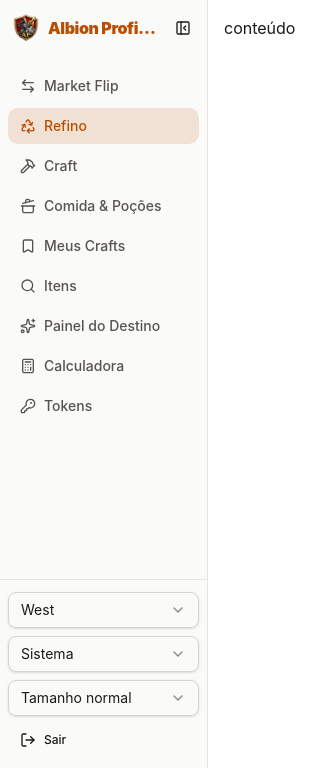
Test: navegação colapsável › colapsar preserva o nome acessível dos links
Click the button named "Colapsar navegação": (183, 28) x1=167 y1=12 x2=199 y2=44
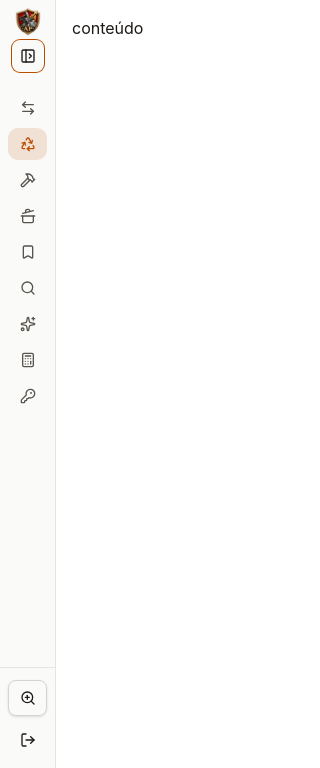
Expected: the link named "Refino" is shown, x1=8 y1=128 x2=47 y2=160
Expected: the button named "Expandir navegação" is shown, x1=12 y1=40 x2=44 y2=72
